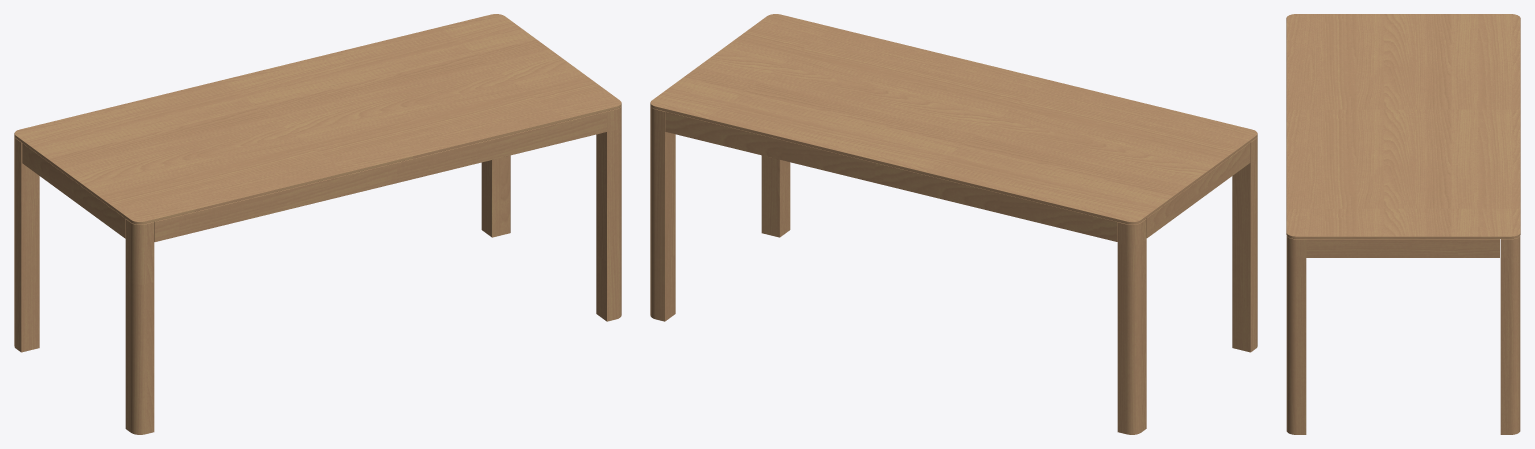
File: table_26_02.001.fbx
3 views of the same model, side by side, from view 1: azimuth 30°, elevation 25°; view 2: azimuth 150°, elevation 25°; view 3: azimuth 270°, elevation 25° (orthographic). The views are drawn at different scales.
Visible parts, largest first — view 1: table_26_02.001; view 2: table_26_02.001; view 3: table_26_02.001.
Boxes of the visible parts, x1,y1,x2,y2 form: table_26_02.001: (14,14,621,434); table_26_02.001: (650,14,1257,434); table_26_02.001: (1286,14,1520,434).
Size of the model in its own units: 180 by 74.88 by 79.97.
Materials: 1 (1 with a texture image).
